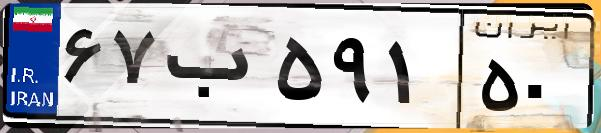0: (525, 38, 570, 115)
1: (385, 28, 445, 110)
5: (270, 28, 330, 110), (475, 38, 525, 113)
6: (57, 26, 110, 100)
7: (110, 28, 158, 98)
9: (330, 28, 385, 110)
ب: (158, 20, 270, 120)
